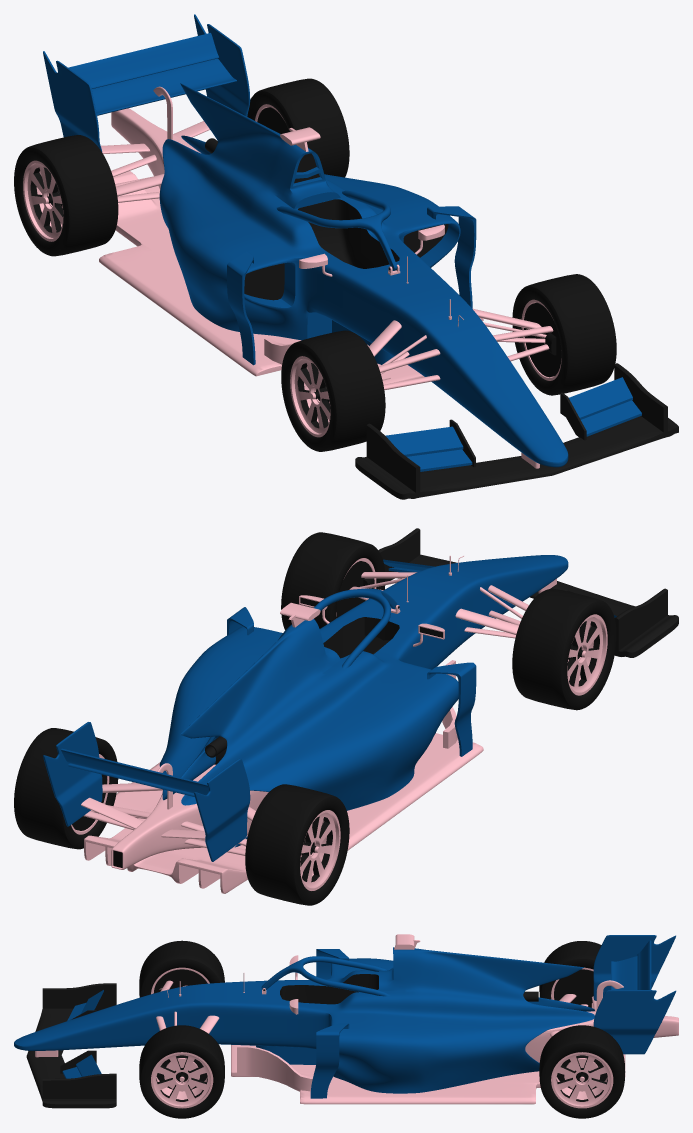
The model's file is Men_accessory_Alpine_5000.fbx.
3 renders of one model, top to bottom at view 1: azimuth 30°, elevation 25°; view 2: azimuth 150°, elevation 25°; view 3: azimuth 270°, elevation 25°, orthographic. The views are drawn at different scales.
Visible parts, largest first — view 1: _gltfNode_0, _gltfNode_3, _gltfNode_13, _gltfNode_16, _gltfNode_4, _gltfNode_2, _gltfNode_10, _gltfNode_1, _gltfNode_14, _gltfNode_17; view 2: _gltfNode_0, _gltfNode_3, _gltfNode_16, _gltfNode_13, _gltfNode_4, _gltfNode_17, _gltfNode_14, _gltfNode_2, _gltfNode_10; view 3: _gltfNode_0, _gltfNode_3, _gltfNode_13, _gltfNode_4, _gltfNode_16, _gltfNode_10, _gltfNode_14, _gltfNode_17, _gltfNode_2, _gltfNode_9.
Part boxes in pixels (x1=…): _gltfNode_0: x1=43, y1=14, x2=641, y2=471; _gltfNode_3: x1=99, y1=86, x2=553, y2=468; _gltfNode_13: x1=281, y1=274, x2=616, y2=451; _gltfNode_16: x1=14, y1=78, x2=349, y2=256; _gltfNode_4: x1=355, y1=363, x2=678, y2=499; _gltfNode_2: x1=298, y1=199, x2=399, y2=268; _gltfNode_10: x1=47, y1=107, x2=561, y2=401; _gltfNode_1: x1=244, y1=153, x2=448, y2=300; _gltfNode_14: x1=290, y1=299, x2=561, y2=437; _gltfNode_17: x1=23, y1=104, x2=284, y2=241; _gltfNode_0: x1=43, y1=555, x2=616, y2=861; _gltfNode_3: x1=81, y1=555, x2=556, y2=893; _gltfNode_16: x1=14, y1=728, x2=349, y2=905; _gltfNode_13: x1=281, y1=532, x2=616, y2=710; _gltfNode_4: x1=378, y1=528, x2=678, y2=657; _gltfNode_17: x1=71, y1=754, x2=340, y2=890; _gltfNode_14: x1=336, y1=558, x2=607, y2=695; _gltfNode_2: x1=323, y1=617, x2=399, y2=658; _gltfNode_10: x1=72, y1=561, x2=583, y2=855; _gltfNode_0: x1=14, y1=935, x2=676, y2=1098; _gltfNode_3: x1=35, y1=934, x2=678, y2=1104; _gltfNode_13: x1=139, y1=940, x2=224, y2=1118; _gltfNode_4: x1=26, y1=983, x2=116, y2=1108; _gltfNode_16: x1=539, y1=941, x2=625, y2=1118; _gltfNode_10: x1=153, y1=969, x2=607, y2=1089; _gltfNode_14: x1=151, y1=967, x2=213, y2=1108; _gltfNode_17: x1=551, y1=967, x2=613, y2=1108; _gltfNode_2: x1=280, y1=974, x2=378, y2=1004; _gltfNode_9: x1=164, y1=1058, x2=600, y2=1091.
Size of the model in its own units: 170 by 99.25 by 463.
